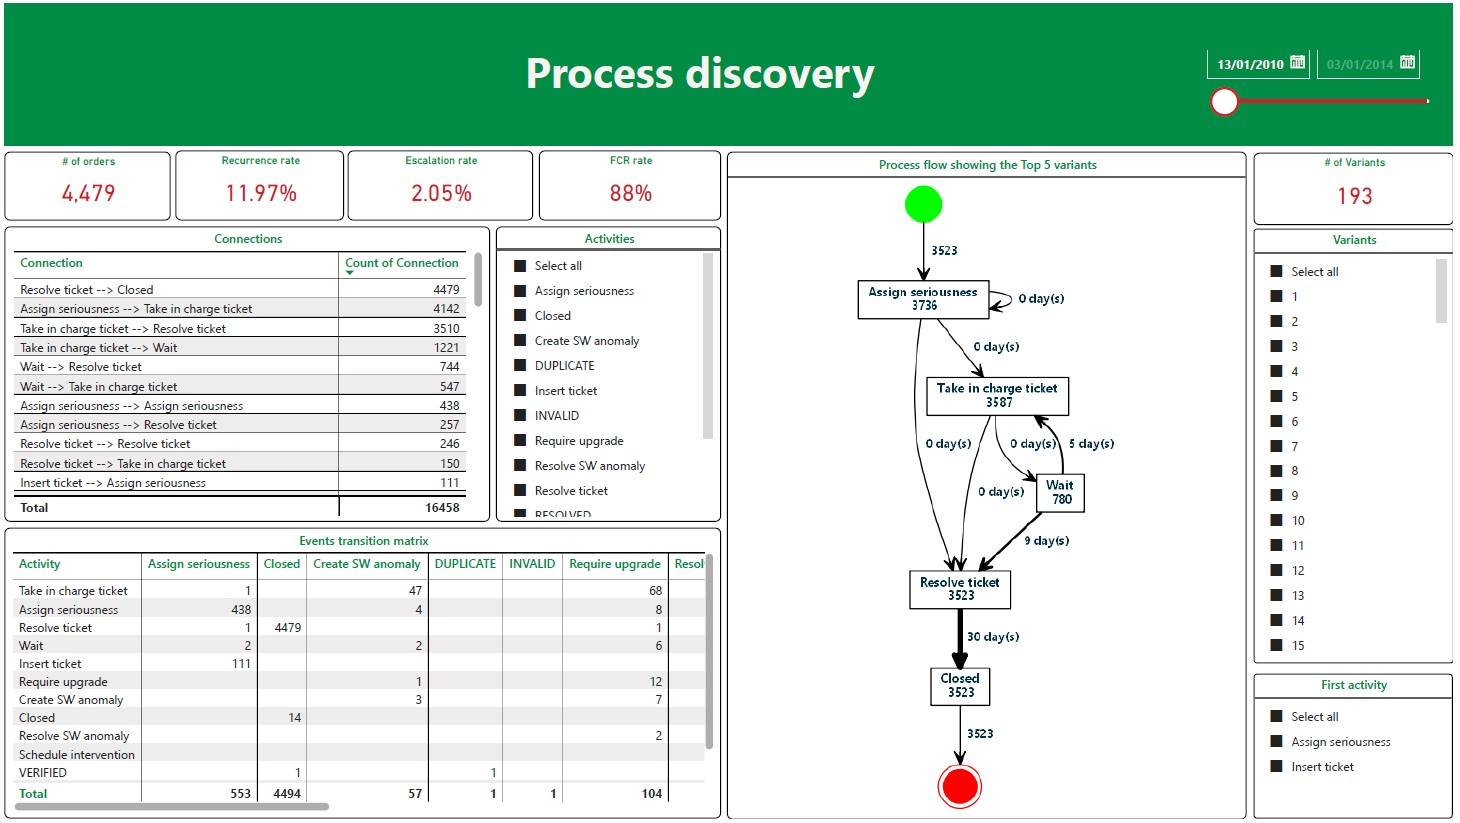

This screenshot's page, from the dashboard's own definition file:
{"tool":"powerbi","page":{"name":"Process discovery","canvas":[1280,720],"ordinal":2},"visuals":[{"type":"shape","box":[1,0,1279,126.4],"z":0},{"type":"textbox","box":[447.4,30.2,335.3,67.2],"z":1000},{"type":"card","title":"# of tickets","fields":{"Values":["Count(Helpdesk_log.Case ID)"]},"box":[1.2,130.8,146.7,61.1],"z":2000},{"type":"card","title":"Recurrence rate","fields":{"Values":["Helpdesk_log.RecurrenceRate"]},"box":[151.6,129.6,149.1,62.3],"z":3000},{"type":"card","title":"Escalation rate","fields":{"Values":["Helpdesk_log.Escalation_rate"]},"box":[304.4,129.6,163.8,62.3],"z":4000},{"type":"slicer","title":"Activities","fields":{"Values":["Helpdesk_log.Activity"]},"box":[435.2,196.8,199.3,261.6],"z":5000},{"type":"card","title":"FCR rate","fields":{"Values":["Helpdesk_log.FCR_rate"]},"box":[473.1,129.6,161.4,62.3],"z":6000},{"type":"card","title":"# of Variants","fields":{"Values":["Count(Distinct_log (2).Variants)"]},"box":[1103.7,131.6,176.9,64.4],"z":7000},{"type":"slicer","title":"Time Period","fields":{"Values":["Helpdesk_log.Complete Timestamp"]},"box":[1049.9,17.2,230.1,93.1],"z":8000},{"type":"slicer","title":"Variants","fields":{"Values":["Distinct_log (2).Variants"]},"box":[1103.8,199.3,177.2,383.8],"z":9000},{"type":"pythonVisual","title":"Process flow showing the Top 5 variants","fields":{"Values":["Helpdesk_log.Case ID","Helpdesk_log.Complete Timestamp","Helpdesk_log.Activity","Helpdesk_log.Event_ID"]},"box":[639.4,131.4,458.5,589.9],"z":10000},{"type":"pivotTable","title":"Events transition matrix","fields":{"Rows":["Process_details (2).Activity"],"Columns":["Process_details (2).Activity_2"],"Values":["CountNonNull(Process_details (2).Case ID)"]},"box":[1.2,463.3,633.2,256.7],"z":11000},{"type":"slicer","title":"First activity","fields":{"Values":["Distinct_log (2).First Activity"]},"box":[1103.8,591.6,176,128.4],"z":12000},{"type":"tableEx","title":"Connections","fields":{"Values":["Process_details (2).Connection","CountNonNull(Process_details (2).Connection)"]},"box":[1.2,196.8,429.1,261.6],"z":13000}]}

Visuals, with their boxes in screenshot pixels (x1, y1, x2, y2), scaled from the page's 1280x720 canvas onto the 1460x823 screenshot:
shape: 1, 0, 1459, 144
textbox: 510, 35, 893, 111
"# of tickets" card: 1, 150, 169, 219
"Recurrence rate" card: 173, 148, 343, 219
"Escalation rate" card: 347, 148, 534, 219
"Activities" slicer: 496, 225, 724, 524
"FCR rate" card: 540, 148, 724, 219
"# of Variants" card: 1259, 150, 1459, 224
"Time Period" slicer: 1198, 20, 1459, 126
"Variants" slicer: 1259, 228, 1459, 667
"Process flow showing the Top 5 variants" pythonVisual: 729, 150, 1252, 822
"Events transition matrix" pivotTable: 1, 530, 724, 822
"First activity" slicer: 1259, 676, 1459, 822
"Connections" tableEx: 1, 225, 491, 524
